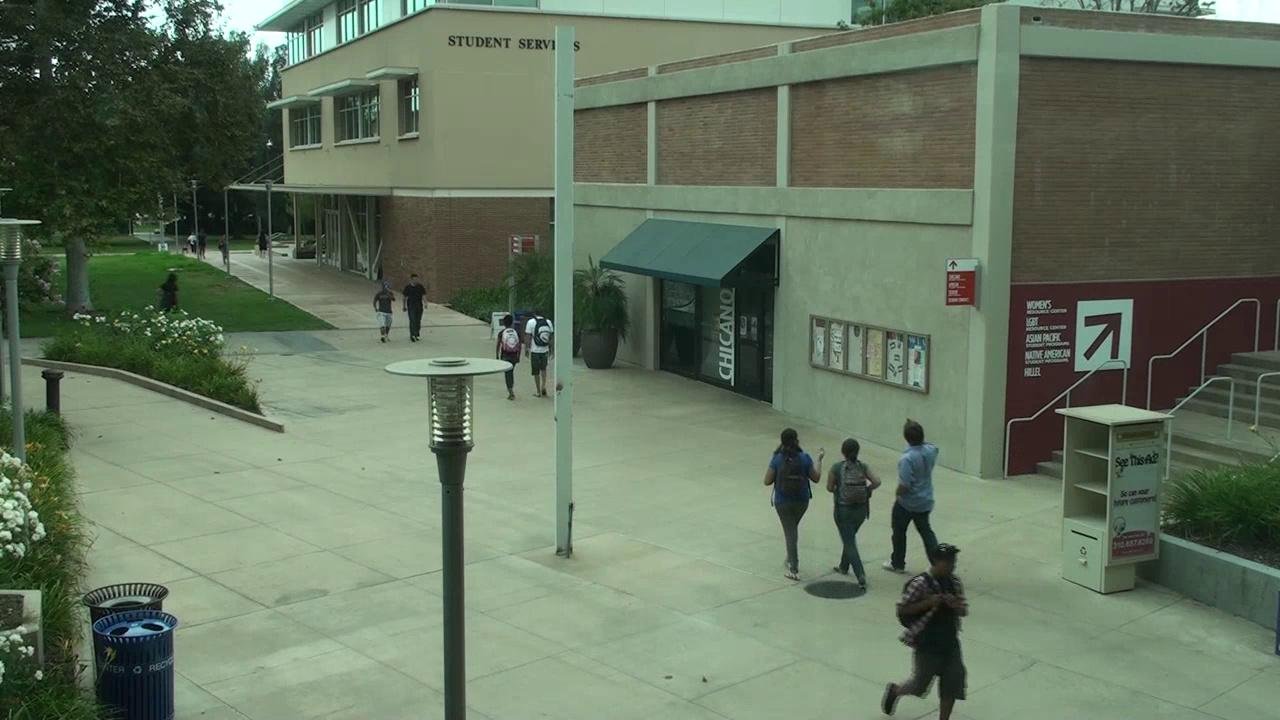person: (881, 543, 968, 719), (763, 428, 824, 579), (883, 419, 938, 572), (826, 438, 880, 589), (497, 310, 554, 396), (403, 274, 425, 341), (373, 281, 394, 342), (256, 230, 266, 255), (506, 370, 513, 399)
